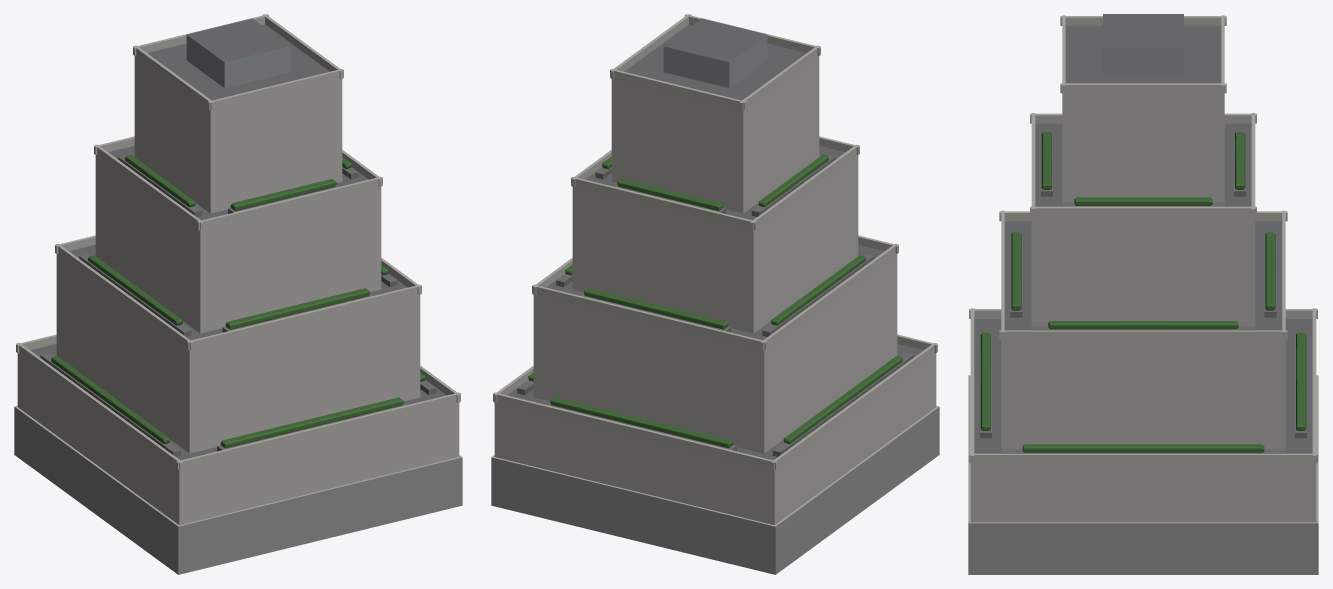
File: building_06.glb
3 renders of one model, left to right at view 1: azimuth 30°, elevation 25°; view 2: azimuth 150°, elevation 25°; view 3: azimuth 270°, elevation 25°, orthographic. The views are drawn at different scales.
Visible parts, largest first — view 1: Render; view 2: Render; view 3: Render.
Boxes of the visible parts, left/top/right/bottom form: Render: left=14, top=14, right=462, bottom=574; Render: left=491, top=14, right=939, bottom=574; Render: left=968, top=14, right=1318, bottom=574.
Bounding box in the file's own units: 34.5 × 51 × 34.5.
